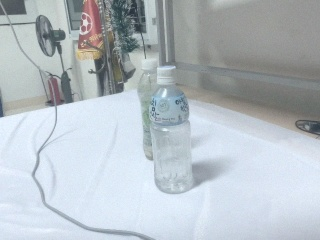bottle: (149, 66, 194, 194), (137, 59, 158, 161)
